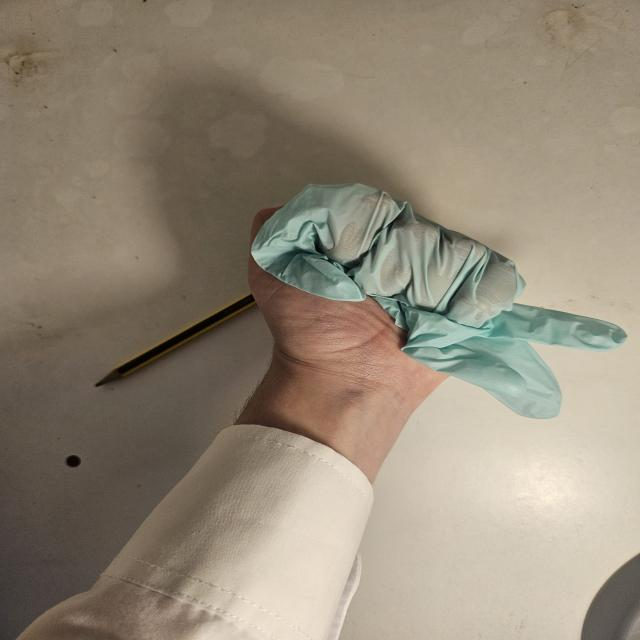glove_partial: (242, 181, 629, 417)
